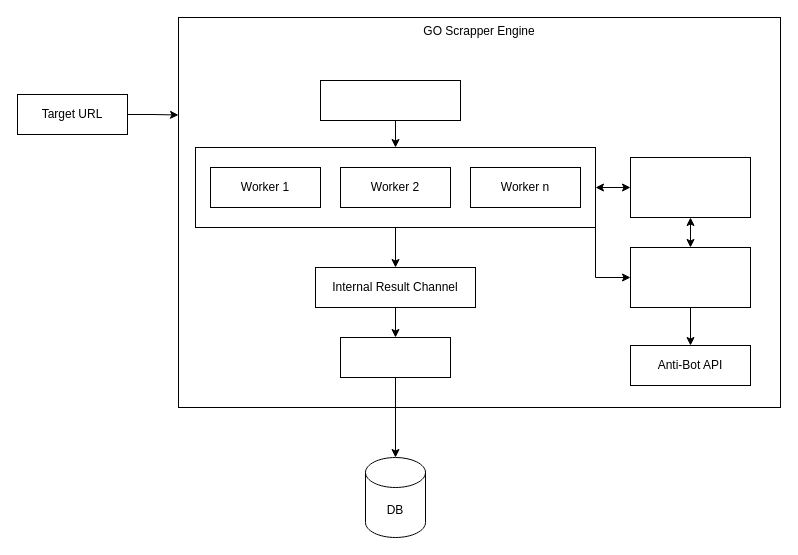
Image size: 798x555. Some labels were removed from this diagram. The centre of each missing label's shape, as x and y in pixels:
"Data Parser" goes at point (395, 357).
"Internal Job Channel" goes at point (390, 100).
"Outbound Proxy Rotator" goes at point (690, 277).
"Thread-Safe Local Cache" goes at point (690, 187).
